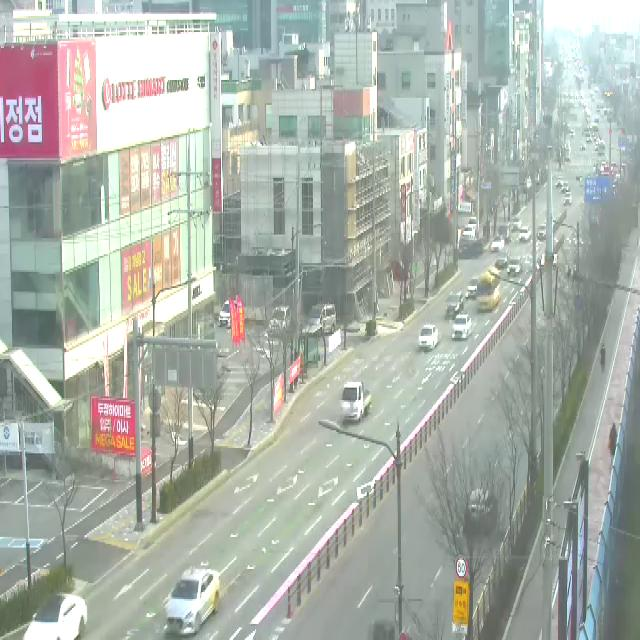Bus: (478, 267, 501, 312)
Car: (164, 568, 220, 634), (23, 593, 87, 640), (467, 488, 500, 534), (308, 306, 336, 340), (268, 307, 292, 338), (218, 300, 239, 330), (445, 292, 464, 320), (452, 315, 472, 341), (419, 325, 438, 350), (465, 276, 479, 301), (507, 260, 522, 276), (495, 253, 509, 270), (498, 226, 511, 243), (491, 236, 504, 253), (511, 216, 522, 233), (519, 228, 531, 242), (462, 226, 476, 237), (537, 224, 546, 240), (468, 216, 480, 228), (564, 192, 572, 207), (561, 182, 570, 194), (556, 176, 563, 188)
Truck: (341, 382, 371, 424)
